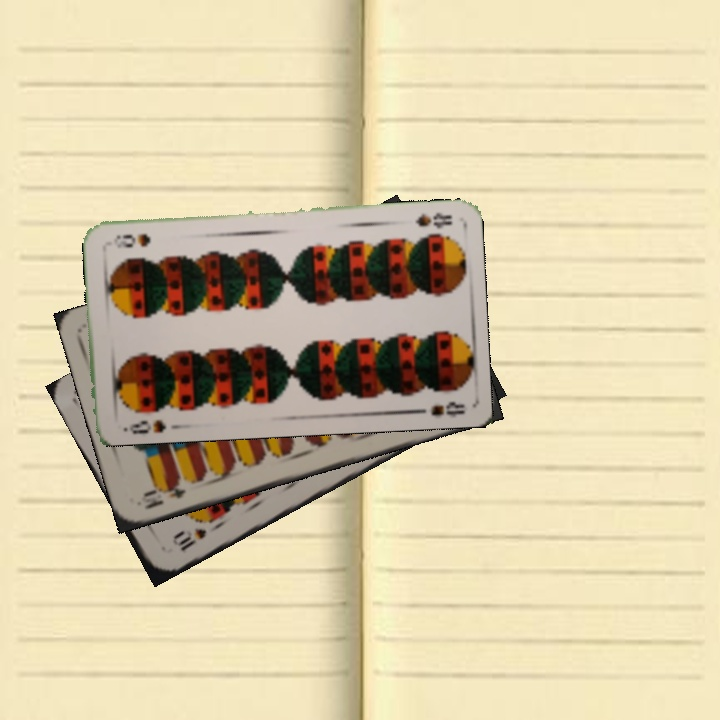E10: (139, 478, 189, 512)
S10: (168, 523, 209, 554)
S8: (119, 416, 169, 436), (412, 208, 455, 231)
